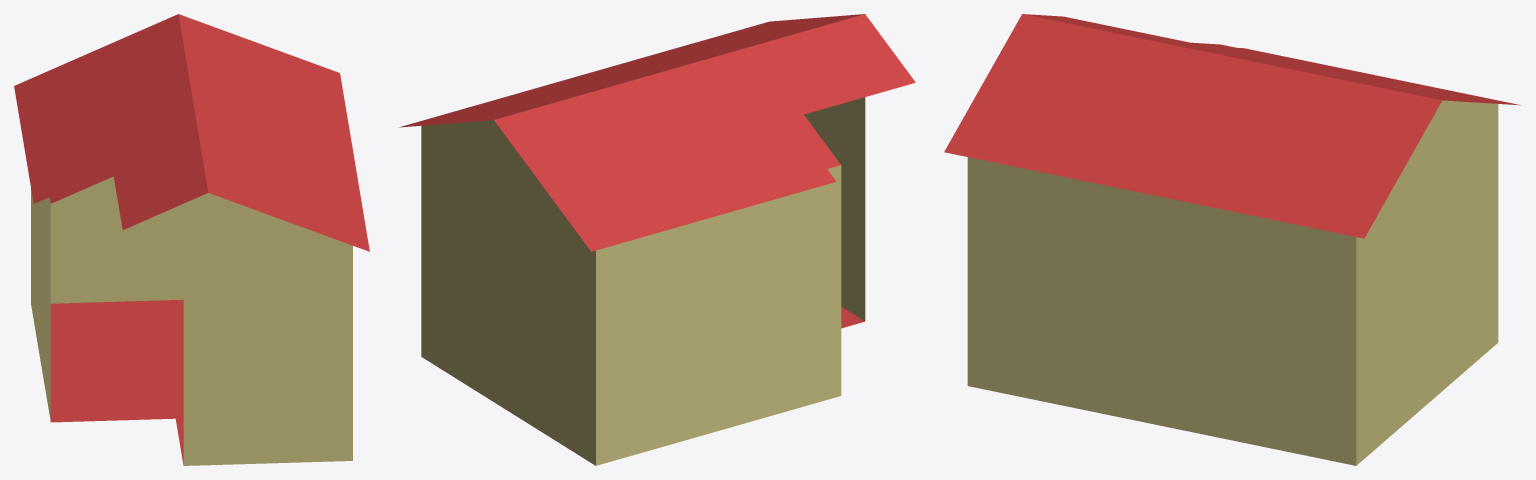
3 views of the same model, side by side, from view 1: azimuth 30°, elevation 25°; view 2: azimuth 150°, elevation 25°; view 3: azimuth 270°, elevation 25° (orthographic). The views are drawn at different scales.
Size of the model in its own units: 13.07 by 16.46 by 9.67.
